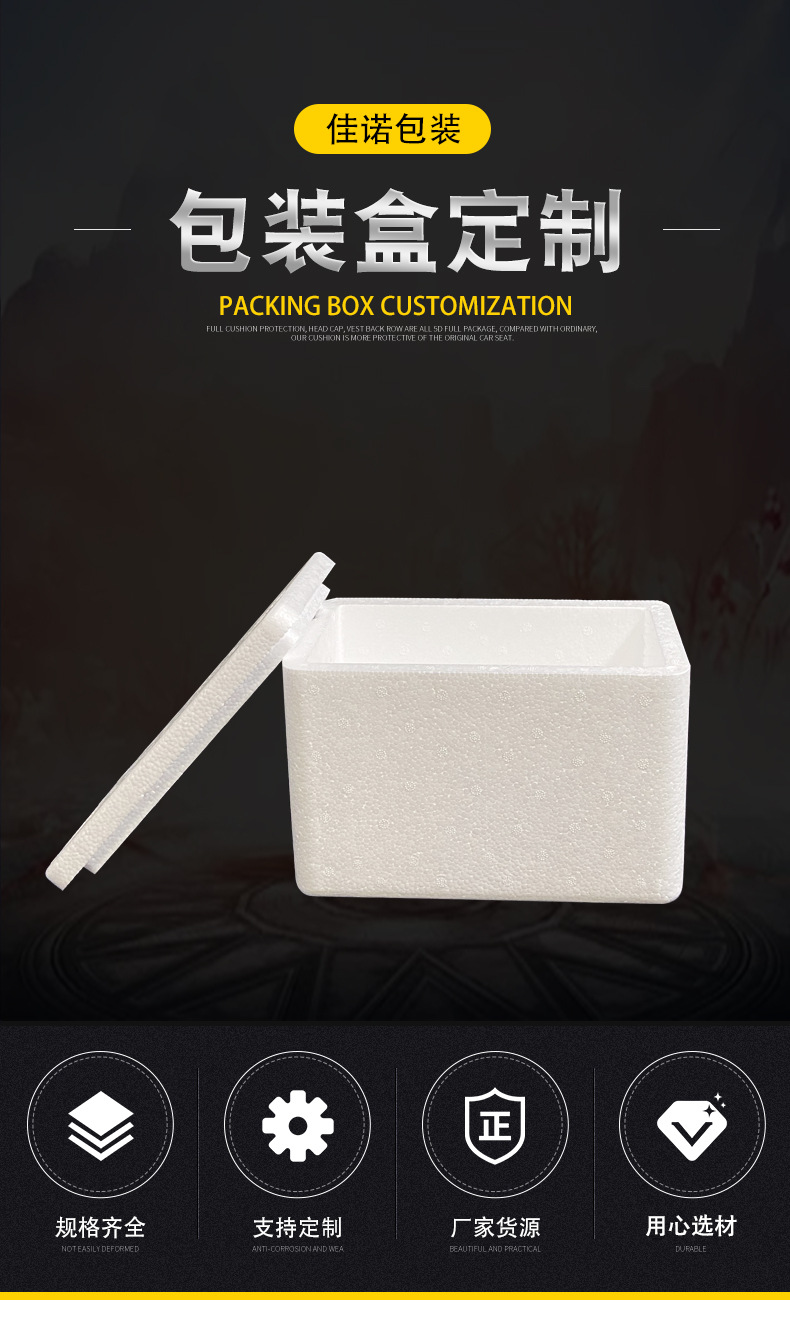Boxes: (46, 553, 689, 903)
